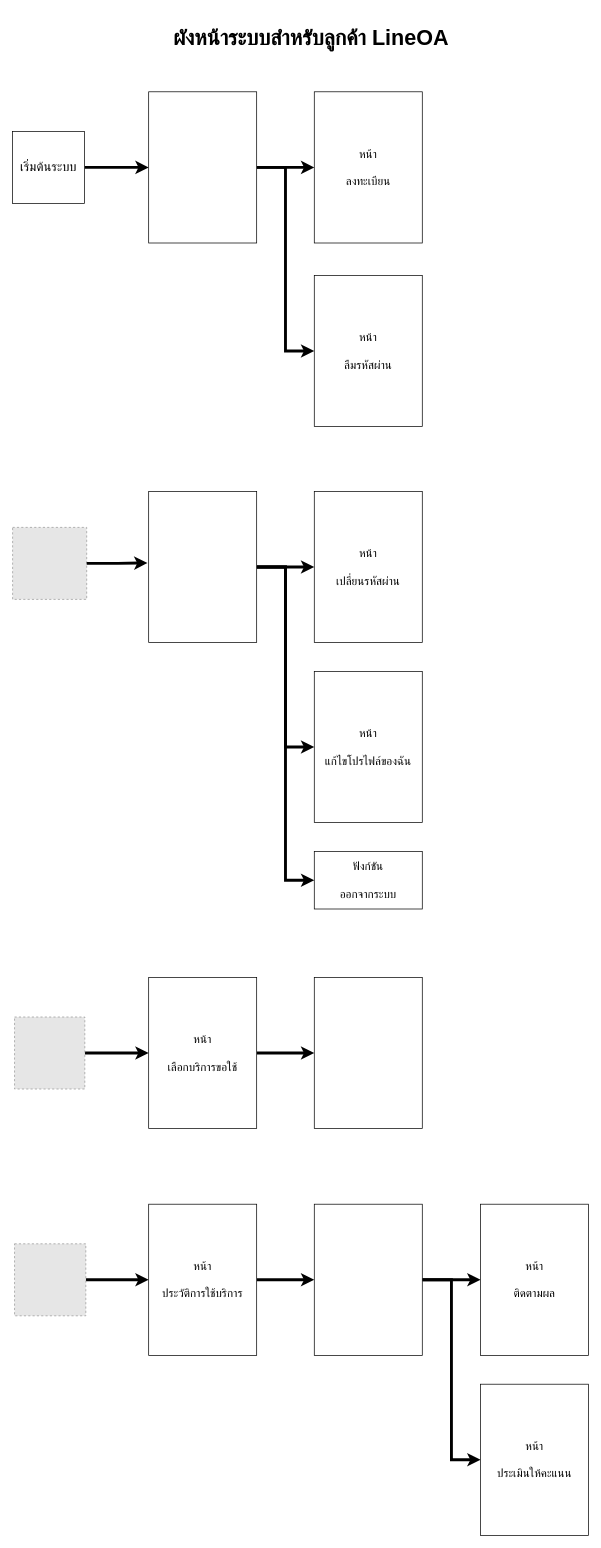
This 601x1548 diagram has some shape labels left out. Grey dashed boxes stand in for pictures. The shapes that lost their labels are listed below. From the top down, each one's centre as x and y in pixels, then its label:
[202,167]: หน้า เข้าสู่ระบบ
[202,567]: หน้า โปรไฟล์ของฉัน
[368,1053]: หน้า กรอกข้อมูลขอใช้บริการ
[368,1279]: หน้า รายละเอียดขอใช้บริการ
